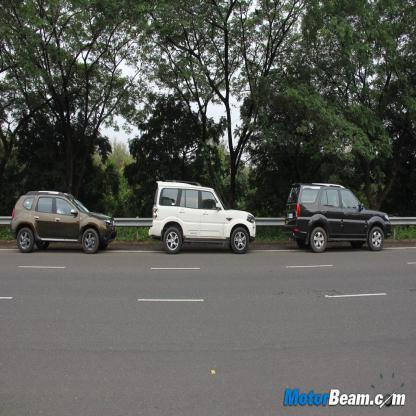vehicle: (148, 180, 259, 254), (285, 182, 392, 253), (9, 190, 117, 254)
